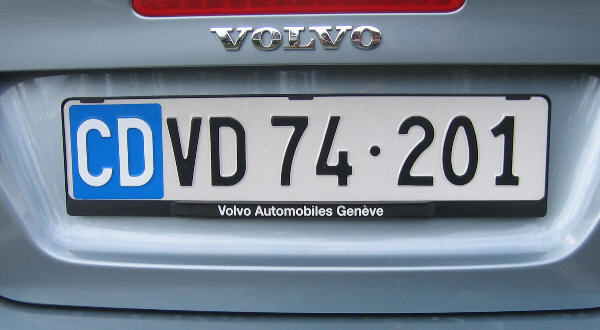license_plate: (62, 94, 550, 203)
